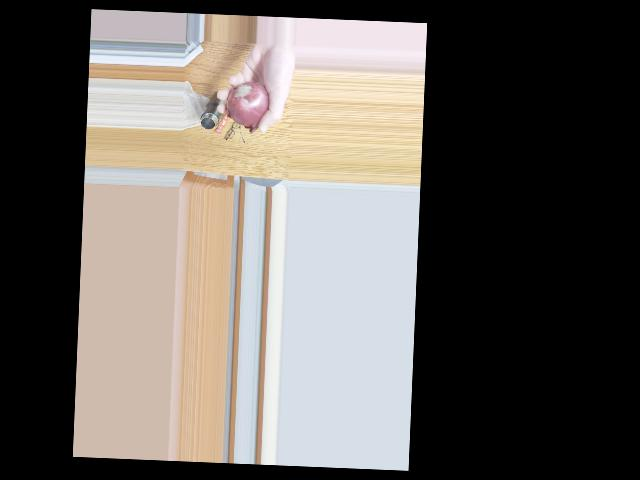onion: (227, 82, 269, 125)
